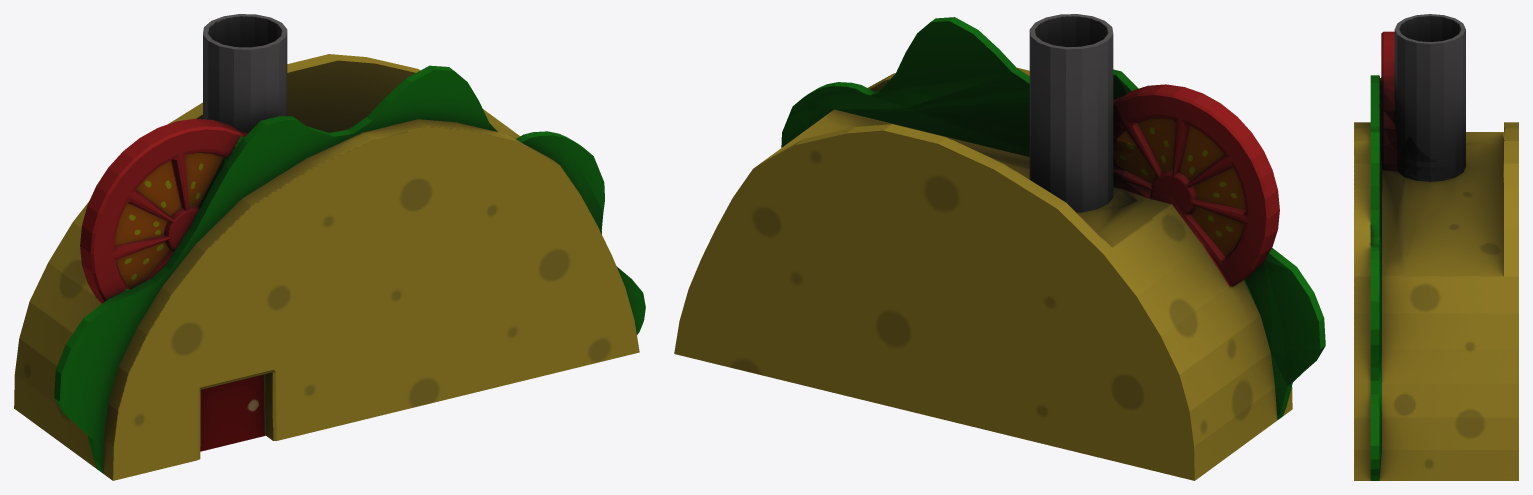
The model's file is TacoHouse.dae.
3 renders of one model, left to right at view 1: azimuth 30°, elevation 25°; view 2: azimuth 150°, elevation 25°; view 3: azimuth 270°, elevation 25°, orthographic. The views are drawn at different scales.
Visible parts, largest first — view 1: Plane; view 2: Plane; view 3: Plane.
Part boxes in pixels (x1,y1,x2,y2): Plane: (14, 14, 645, 480); Plane: (674, 14, 1325, 480); Plane: (1354, 14, 1518, 480).
Size of the model in its own units: 121 by 73.51 by 35.42.
1 material, 1 textured.
